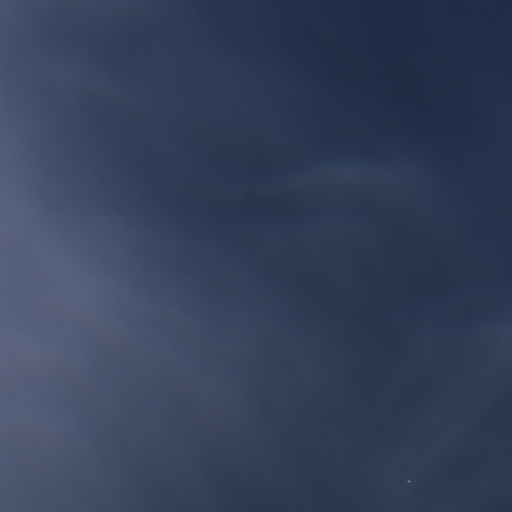Iceberg: (407, 480, 410, 482)
